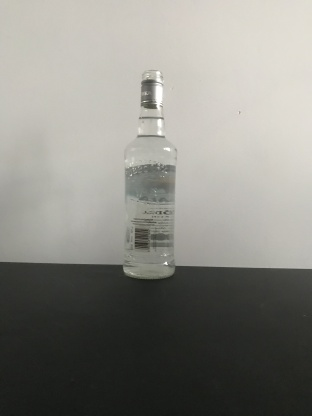nakretka: (138, 67, 165, 110)
